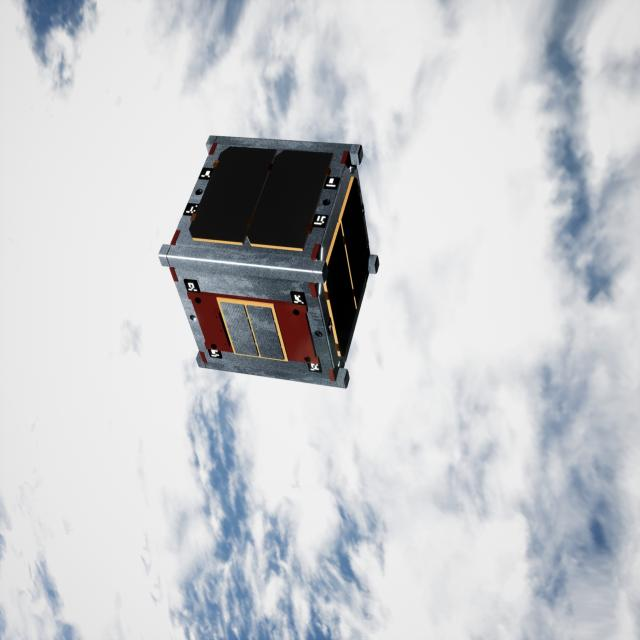medium_debris: (160, 125, 393, 394)
